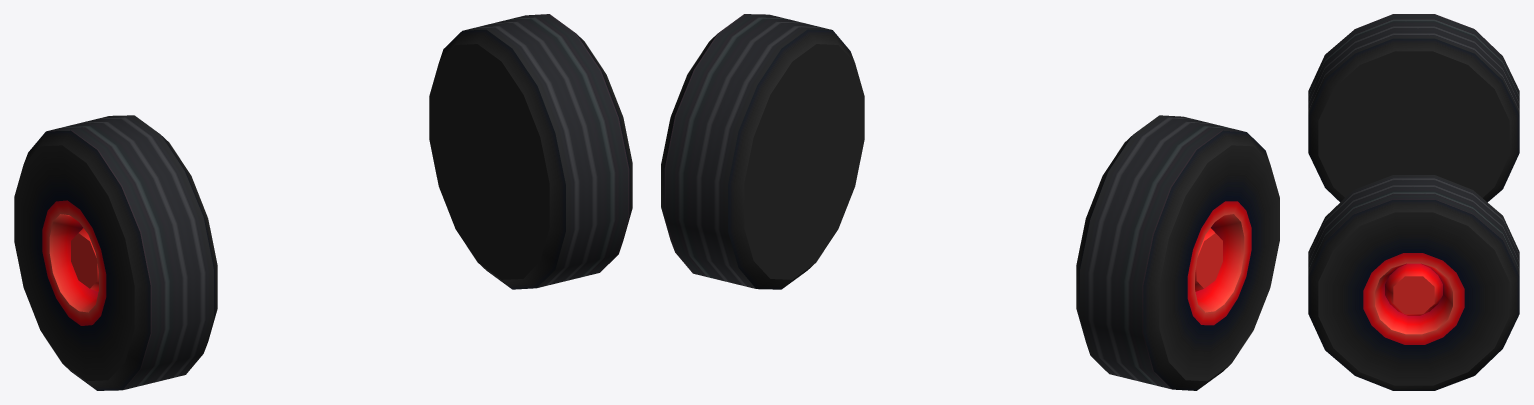
Rendered from wheel2.glb.
3 renders of one model, left to right at view 1: azimuth 30°, elevation 25°; view 2: azimuth 150°, elevation 25°; view 3: azimuth 270°, elevation 25°, orthographic. The views are drawn at different scales.
Parts seen in each view (by area): view 1: model_2; view 2: model_2; view 3: model_2.
Boxes of the visible parts, <box> form: model_2: <box>14,14,632,390</box>; model_2: <box>661,14,1279,390</box>; model_2: <box>1308,14,1519,390</box>.
Bounding box in the file's own units: 143 × 65.9 × 65.91.
Materials: 1 (1 with a texture image).
